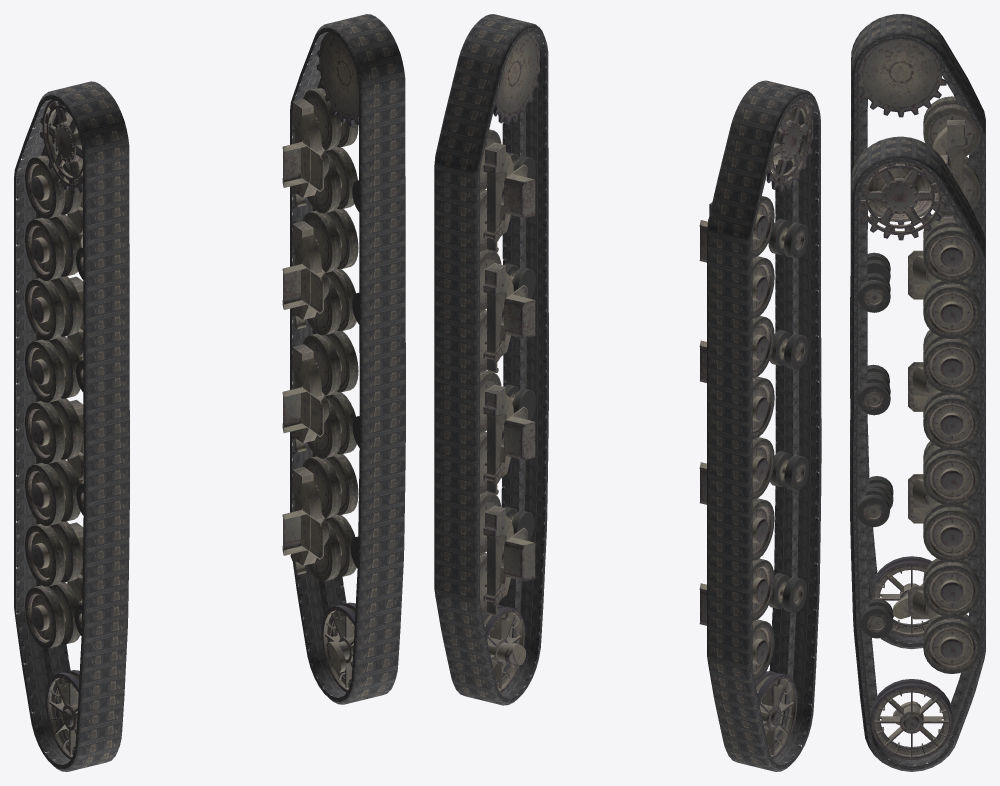
File: Chassis.glb
The picture shows the model from 3 angles, left to right: view 1: azimuth 30°, elevation 25°; view 2: azimuth 150°, elevation 25°; view 3: azimuth 270°, elevation 25°; orthographic projection. The views are drawn at different scales.
Parts seen in each view (by area): view 1: set_0_group_0, set_1_group_0, set_3_group_0, set_2_group_0; view 2: set_0_group_0, set_1_group_0, set_3_group_0, set_2_group_0; view 3: set_3_group_0, set_1_group_0, set_2_group_0, set_0_group_0.
Boxes of the visible parts, box(x1,y1,x2,y2) form: set_0_group_0: box(14, 81, 129, 771); set_1_group_0: box(290, 14, 405, 704); set_3_group_0: box(282, 32, 359, 692); set_2_group_0: box(25, 99, 83, 759); set_0_group_0: box(707, 80, 821, 771); set_1_group_0: box(434, 14, 548, 705); set_3_group_0: box(480, 32, 539, 693); set_2_group_0: box(699, 98, 813, 759); set_3_group_0: box(857, 161, 980, 760); set_1_group_0: box(850, 136, 985, 771); set_2_group_0: box(858, 39, 980, 637); set_0_group_0: box(850, 14, 985, 649).
Size of the model in its own units: 2.76 by 5.59 by 1.11.
4 materials, 4 textured.
